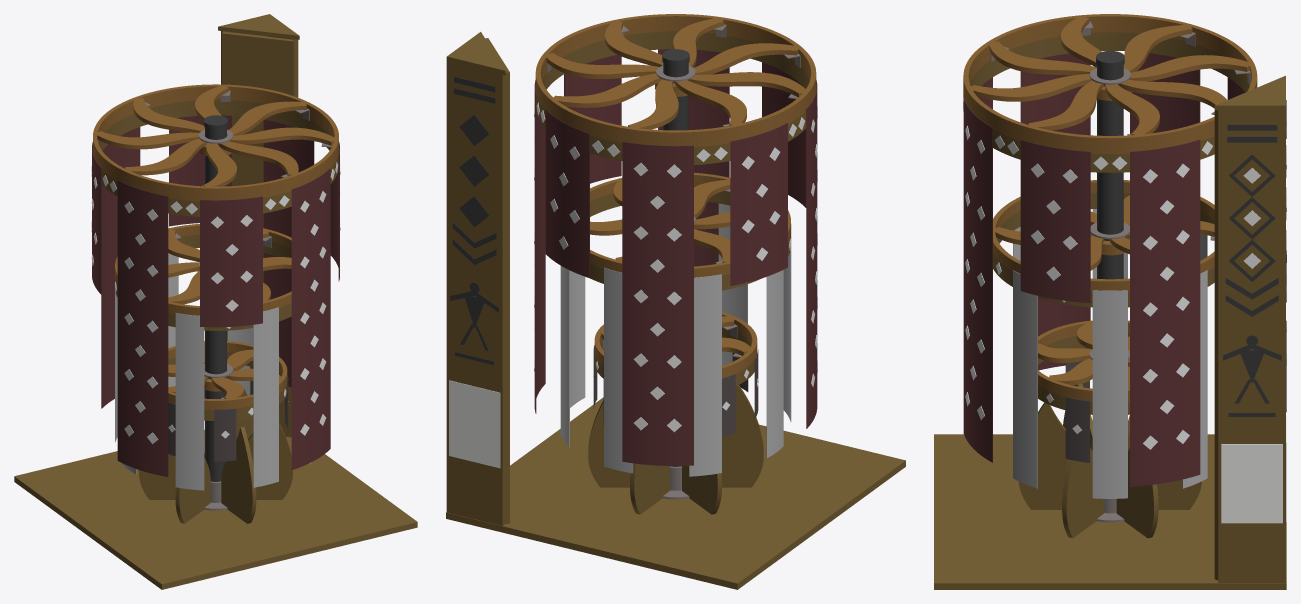
The model's file is student-work-01.glb.
3 views of the same model, side by side, from view 1: azimuth 30°, elevation 25°; view 2: azimuth 150°, elevation 25°; view 3: azimuth 270°, elevation 25° (orthographic). The views are drawn at different scales.
Visible parts, largest first — view 1: Base_Plywood_Board_1200x1200x25, Top_Ring_Maroon_Fabric_Panel_5_Long, Top_Ring_Maroon_Fabric_Panel_7_Long, Top_Ring_Maroon_Fabric_Panel_6_Short, Top_Ring_Varnished_Rim_D1000, Pattern_Pillar_Board_Back, Middle_Ring_White_Satin_Panel_6, Middle_Ring_White_Satin_Panel_7, Top_Ring_Maroon_Fabric_Panel_3_Long, Top_Ring_Maroon_Fabric_Panel_1_Long, Top_Ring_Orange_Fascia_Band_D1000, Central_Pillar_PVC_Pipe_D90 (+24 smaller); view 2: Base_Plywood_Board_1200x1200x25, Top_Ring_Maroon_Fabric_Panel_3_Long, Pattern_Pillar_Board_FaceA, Top_Ring_Varnished_Rim_D1000, Top_Ring_Maroon_Fabric_Panel_4_Short, Top_Ring_Maroon_Fabric_Panel_2_Short, Middle_Ring_White_Satin_Panel_4, Top_Ring_Orange_Fascia_Band_D1000, Pillar_FaceA_A4_Info_Sheet, Middle_Ring_White_Satin_Panel_3, Top_Ring_Maroon_Fabric_Panel_5_Long, Top_Ring_Maroon_Fabric_Panel_1_Long (+29 smaller); view 3: Base_Plywood_Board_1200x1200x25, Top_Ring_Maroon_Fabric_Panel_1_Long, Pattern_Pillar_Board_FaceB, Top_Ring_Maroon_Fabric_Panel_8_Short, Top_Ring_Maroon_Fabric_Panel_7_Long, Top_Ring_Varnished_Rim_D1000, Middle_Ring_White_Satin_Panel_1, Pillar_FaceB_A4_Info_Sheet, Middle_Ring_White_Satin_Panel_8, Top_Ring_Orange_Fascia_Band_D1000, Top_Ring_Maroon_Fabric_Panel_5_Long, Central_Pillar_PVC_Pipe_D90 (+28 smaller).
Boxes of the visible parts, x1=… form: Base_Plywood_Board_1200x1200x25: x1=14, y1=430, x2=417, y2=589; Top_Ring_Maroon_Fabric_Panel_5_Long: x1=117, y1=180, x2=168, y2=476; Top_Ring_Maroon_Fabric_Panel_7_Long: x1=291, y1=168, x2=330, y2=469; Top_Ring_Maroon_Fabric_Panel_6_Short: x1=200, y1=196, x2=262, y2=327; Top_Ring_Varnished_Rim_D1000: x1=93, y1=84, x2=338, y2=201; Pattern_Pillar_Board_Back: x1=222, y1=31, x2=294, y2=437; Middle_Ring_White_Satin_Panel_6: x1=175, y1=313, x2=204, y2=490; Middle_Ring_White_Satin_Panel_7: x1=253, y1=307, x2=278, y2=487; Top_Ring_Maroon_Fabric_Panel_3_Long: x1=101, y1=127, x2=140, y2=408; Top_Ring_Maroon_Fabric_Panel_1_Long: x1=263, y1=119, x2=314, y2=387; Top_Ring_Orange_Fascia_Band_D1000: x1=93, y1=99, x2=338, y2=216; Central_Pillar_PVC_Pipe_D90: x1=205, y1=128, x2=226, y2=481; Base_Plywood_Board_1200x1200x25: x1=446, y1=397, x2=905, y2=589; Top_Ring_Maroon_Fabric_Panel_3_Long: x1=622, y1=141, x2=693, y2=465; Pattern_Pillar_Board_FaceA: x1=446, y1=61, x2=505, y2=525; Top_Ring_Varnished_Rim_D1000: x1=535, y1=14, x2=816, y2=147; Top_Ring_Maroon_Fabric_Panel_4_Short: x1=730, y1=123, x2=787, y2=285; Top_Ring_Maroon_Fabric_Panel_2_Short: x1=545, y1=109, x2=589, y2=277; Middle_Ring_White_Satin_Panel_4: x1=689, y1=274, x2=721, y2=476; Top_Ring_Orange_Fascia_Band_D1000: x1=535, y1=31, x2=816, y2=164; Pillar_FaceA_A4_Info_Sheet: x1=449, y1=380, x2=500, y2=468; Middle_Ring_White_Satin_Panel_3: x1=604, y1=267, x2=633, y2=473; Top_Ring_Maroon_Fabric_Panel_5_Long: x1=806, y1=80, x2=817, y2=428; Top_Ring_Maroon_Fabric_Panel_1_Long: x1=534, y1=80, x2=545, y2=413; Base_Plywood_Board_1200x1200x25: x1=934, y1=434, x2=1286, y2=589; Top_Ring_Maroon_Fabric_Panel_1_Long: x1=1130, y1=139, x2=1200, y2=486; Pattern_Pillar_Board_FaceB: x1=1218, y1=110, x2=1280, y2=582; Top_Ring_Maroon_Fabric_Panel_8_Short: x1=1020, y1=139, x2=1090, y2=303; Top_Ring_Maroon_Fabric_Panel_7_Long: x1=963, y1=98, x2=992, y2=462; Top_Ring_Varnished_Rim_D1000: x1=963, y1=14, x2=1257, y2=153; Middle_Ring_White_Satin_Panel_1: x1=1092, y1=290, x2=1127, y2=498; Pillar_FaceB_A4_Info_Sheet: x1=1221, y1=444, x2=1282, y2=523; Middle_Ring_White_Satin_Panel_8: x1=1013, y1=270, x2=1037, y2=488; Top_Ring_Orange_Fascia_Band_D1000: x1=963, y1=32, x2=1249, y2=172; Top_Ring_Maroon_Fabric_Panel_5_Long: x1=1020, y1=53, x2=1090, y2=370; Central_Pillar_PVC_Pipe_D90: x1=1097, y1=65, x2=1123, y2=279.
Size of the model in its own units: 15 by 22.72 by 15.01.
